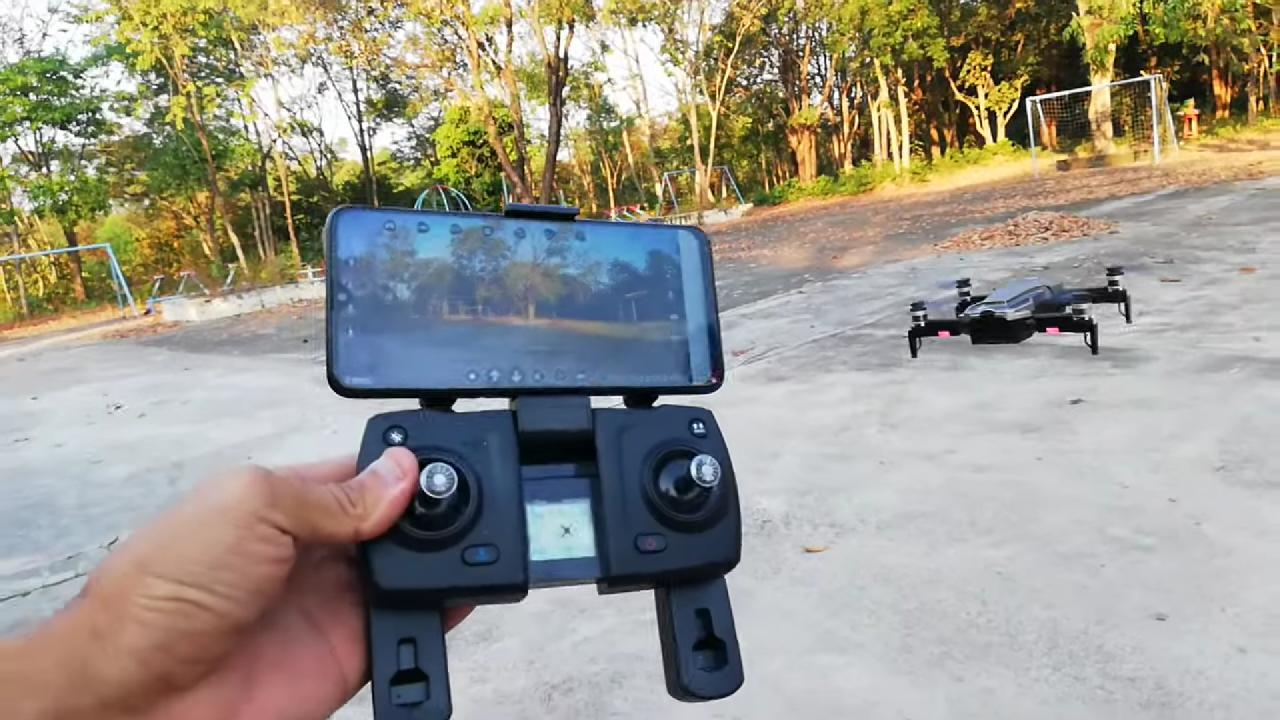Drone: (879, 254, 1159, 367)
